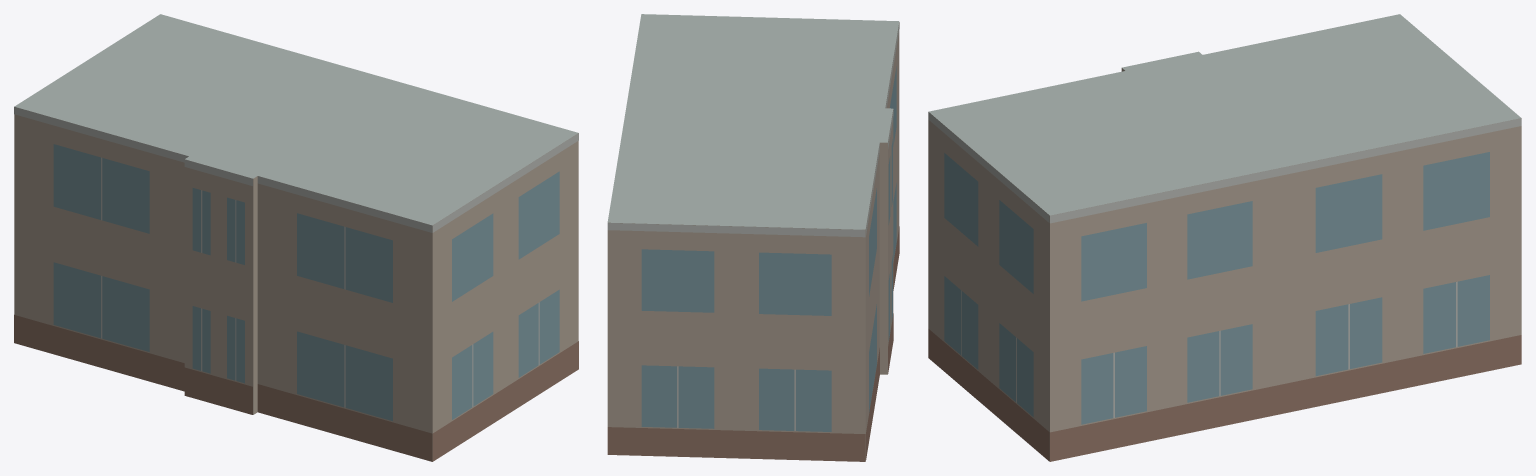
Rendered from survey-upis-32746333.glb.
3 views of the same model, side by side, from view 1: azimuth 30°, elevation 25°; view 2: azimuth 150°, elevation 25°; view 3: azimuth 270°, elevation 25° (orthographic). The views are drawn at different scales.
Parts seen in each view (by area): view 1: survey-upis-32746333.tmp; view 2: survey-upis-32746333.tmp; view 3: survey-upis-32746333.tmp.
Boxes of the visible parts, <box> form: survey-upis-32746333.tmp: <box>14,14,578,461</box>; survey-upis-32746333.tmp: <box>607,14,899,461</box>; survey-upis-32746333.tmp: <box>928,14,1521,461</box>.
Bounding box in the file's own units: 13.35 × 7.6 × 16.6.
